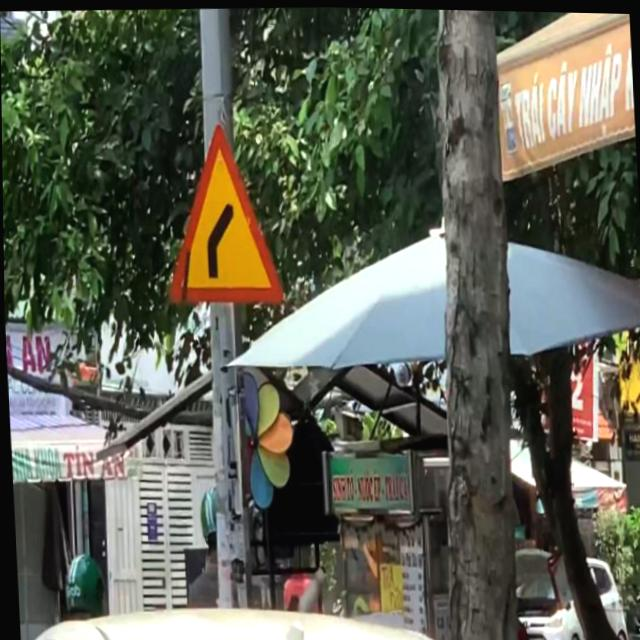cho ngoat nguy hiem vong ben phai: (152, 110, 291, 322)
